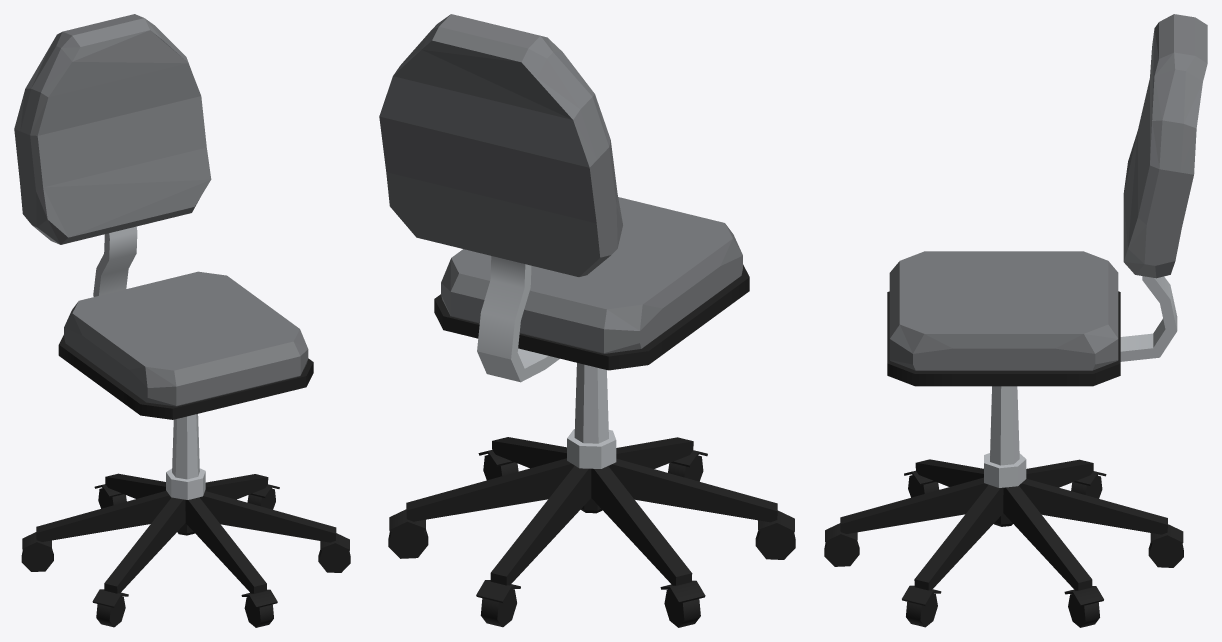
The model's file is SM_chair_office_02.fbx.
3 renders of one model, left to right at view 1: azimuth 30°, elevation 25°; view 2: azimuth 150°, elevation 25°; view 3: azimuth 270°, elevation 25°, orthographic. The views are drawn at different scales.
Visible parts, largest first — view 1: Box024; view 2: Box024; view 3: Box024.
Part boxes in pixels (<box>): Box024: <box>14,14,350,627</box>; Box024: <box>379,14,795,627</box>; Box024: <box>824,14,1207,627</box>.
Size of the model in its own units: 26.06 by 46.94 by 30.74.
